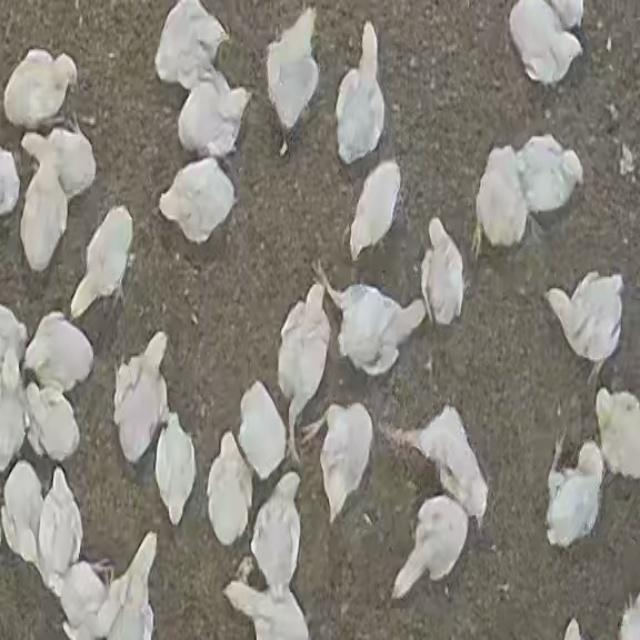chicken: (391, 405, 488, 529), (322, 271, 426, 378), (19, 125, 97, 267), (276, 283, 333, 458), (546, 271, 625, 385), (111, 329, 170, 474), (392, 496, 470, 597), (92, 531, 164, 640), (315, 401, 375, 523), (158, 156, 236, 246), (175, 70, 251, 161), (71, 207, 132, 320), (335, 24, 385, 161), (155, 0, 228, 93), (250, 472, 304, 597), (268, 14, 320, 142), (23, 312, 96, 402), (544, 442, 605, 546), (510, 0, 584, 84), (3, 49, 76, 133), (472, 147, 528, 253), (348, 160, 402, 264), (236, 381, 288, 487), (205, 432, 252, 547), (517, 134, 582, 216), (24, 379, 82, 467), (419, 218, 466, 326), (225, 584, 312, 640), (47, 563, 112, 636), (154, 415, 196, 527), (595, 388, 640, 483), (2, 460, 43, 564), (45, 472, 86, 563), (0, 351, 24, 467)
